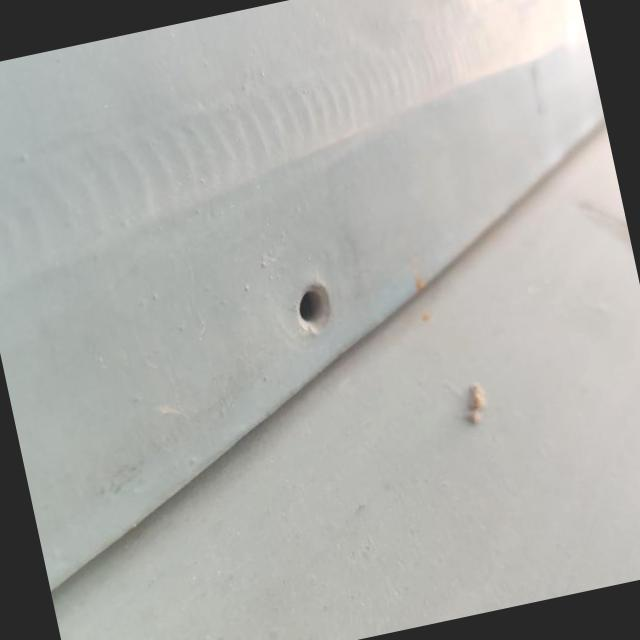Missing Fastener: (282, 276, 341, 342)
